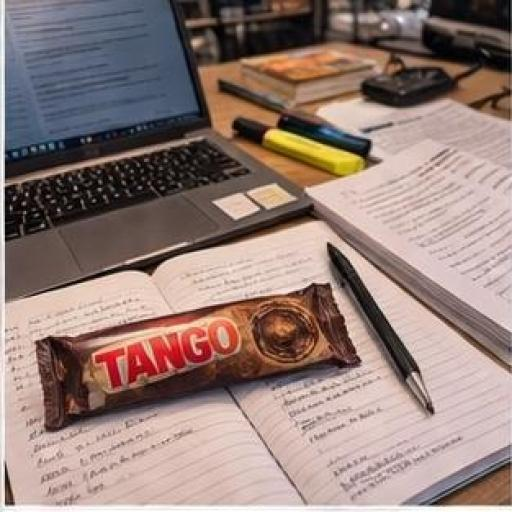tango: (15, 257, 388, 429)
